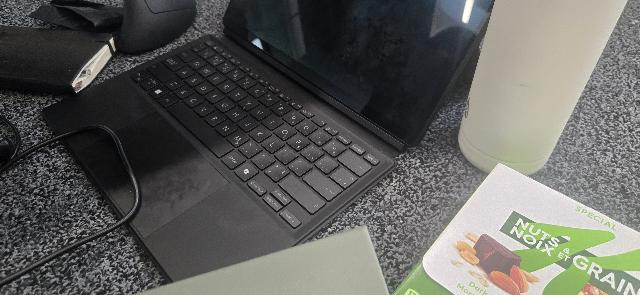Keyboard: (132, 40, 379, 229)
